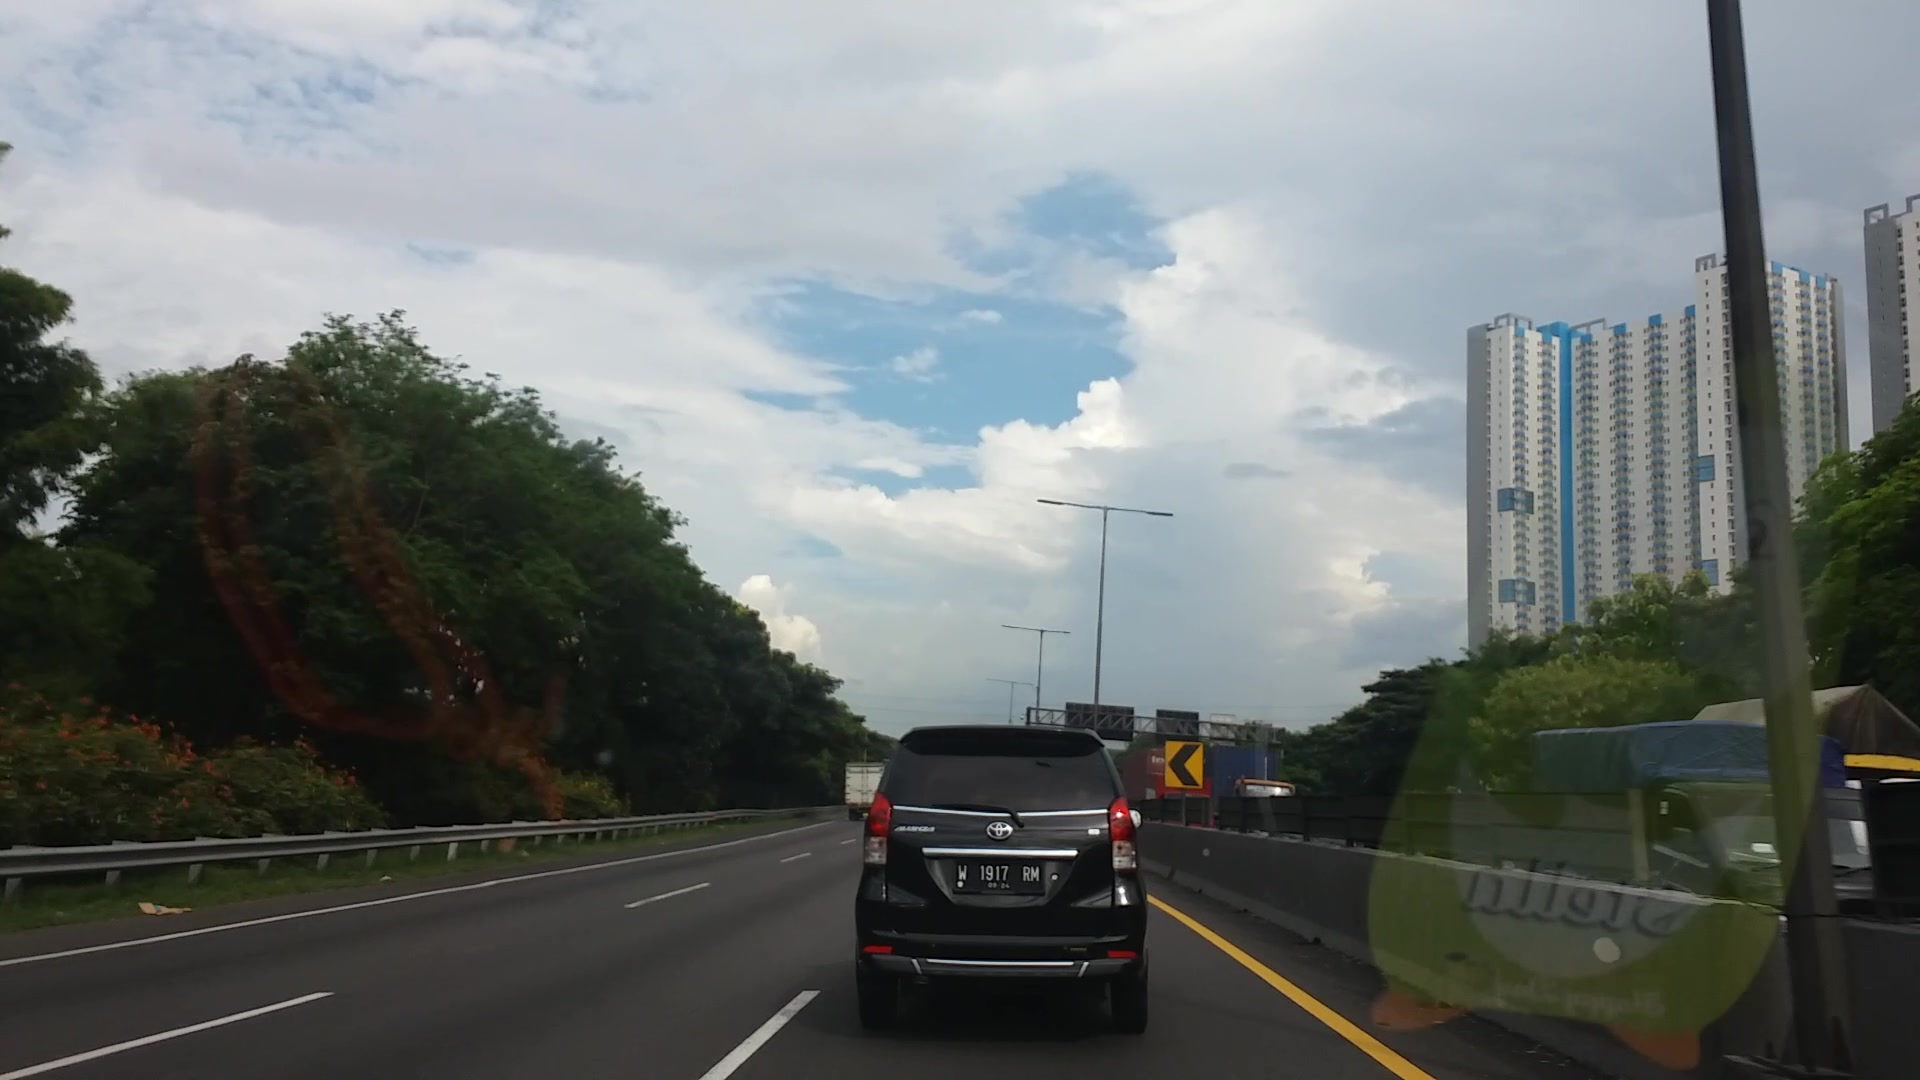plate_positive: (953, 860, 1042, 890)
